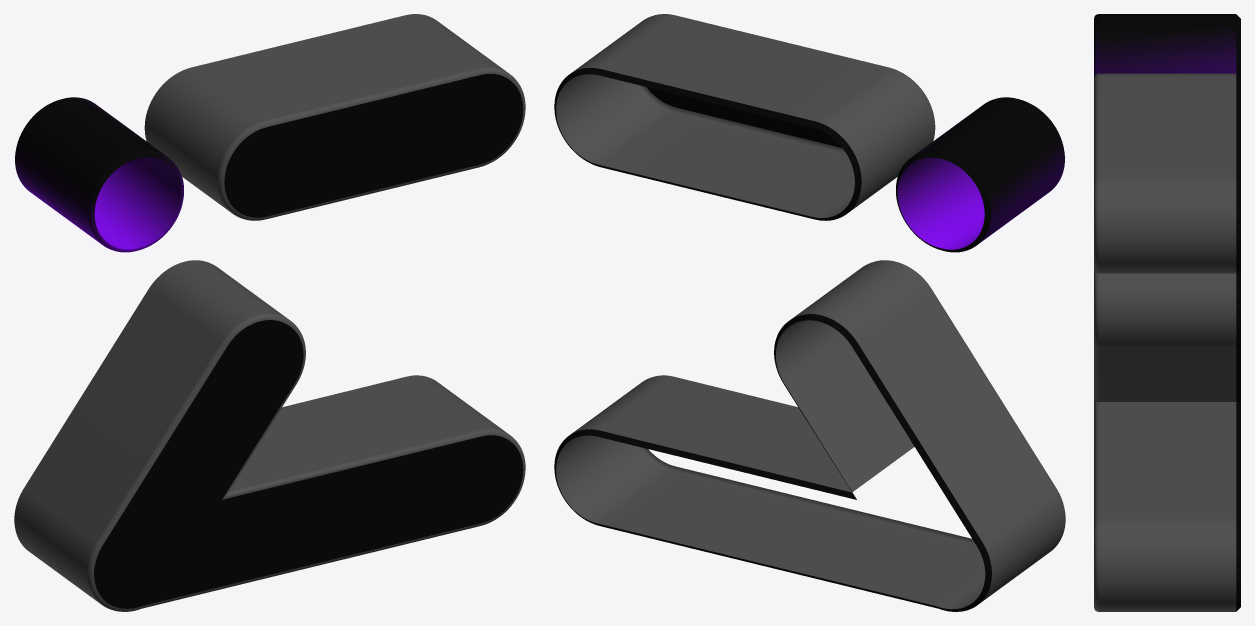
The model's file is home.fbx.
3 renders of one model, left to right at view 1: azimuth 30°, elevation 25°; view 2: azimuth 150°, elevation 25°; view 3: azimuth 270°, elevation 25°, orthographic. The views are drawn at different scales.
Visible parts, largest first — view 1: M_LOGO, 封顶_1, 平滑_1; view 2: M_LOGO, 平滑_2, 平滑_1, 封顶_1; view 3: M_LOGO, 平滑_1, 平滑_2.
Part boxes in pixels (left/top/right/bottom): M_LOGO: left=14, top=14, right=507, bottom=602; 封顶_1: left=94, top=73, right=523, bottom=608; 平滑_1: left=87, top=67, right=525, bottom=611; M_LOGO: left=556, top=14, right=1064, bottom=609; 平滑_2: left=554, top=68, right=991, bottom=611; 平滑_1: left=637, top=14, right=1065, bottom=546; 封顶_1: left=646, top=87, right=841, bottom=147; M_LOGO: left=1098, top=14, right=1236, bottom=611; 平滑_1: left=1094, top=14, right=1098, bottom=611; 平滑_2: left=1236, top=14, right=1240, bottom=611.
Size of the model in its own units: 518 by 518 by 160.
3 materials, 1 textured.
